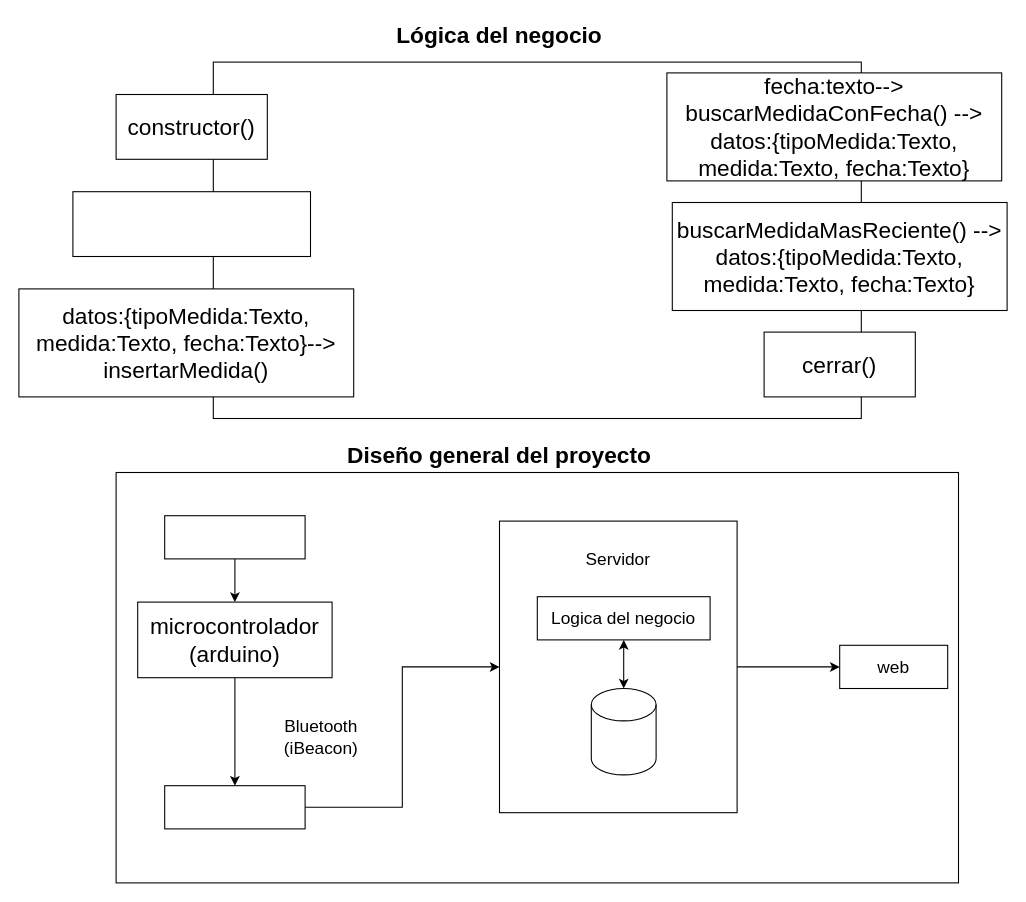
Some shapes in this 1026 by 902 pixel diagram are drawn without their labels. Here are the shapes that lost their labels. From the top down, the box of each, then its label:
(72, 191, 310, 256): nombreTabla:Texto --> borrarFilasDe()
(164, 515, 305, 559): sensor
(590, 687, 656, 775): BBDD
(164, 785, 305, 829): App móvil
